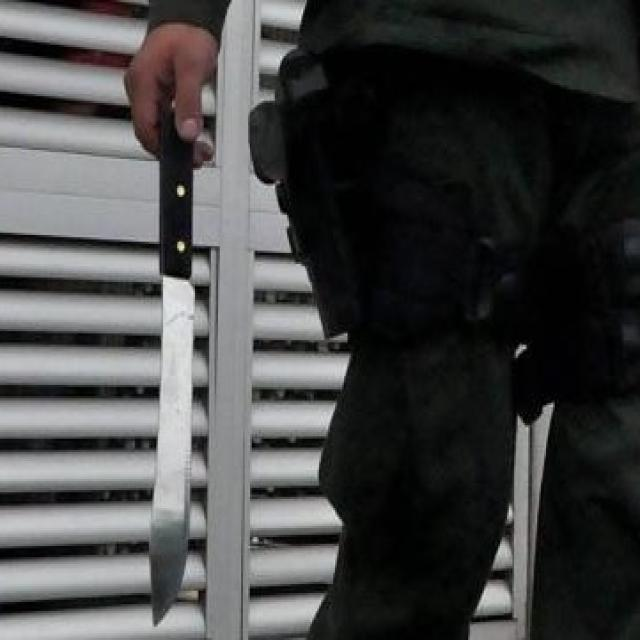knife: (150, 108, 198, 638)
